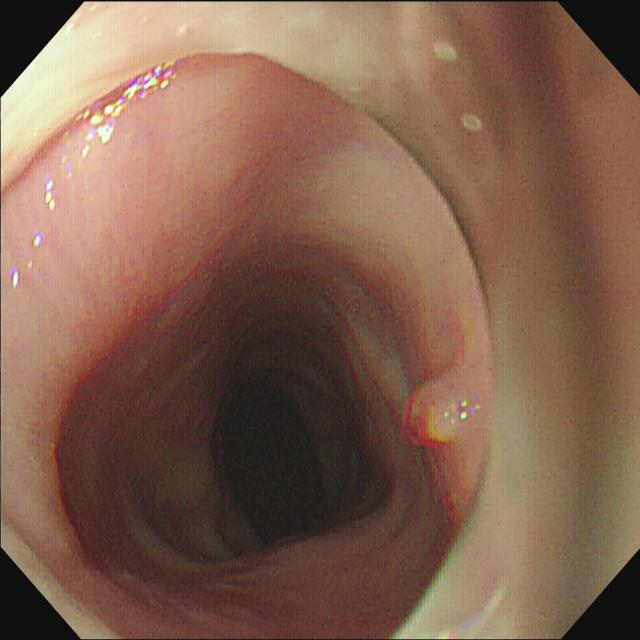E: (210, 363, 356, 542)
J: (396, 367, 476, 454)
U: (77, 60, 182, 162), (12, 181, 58, 287)
